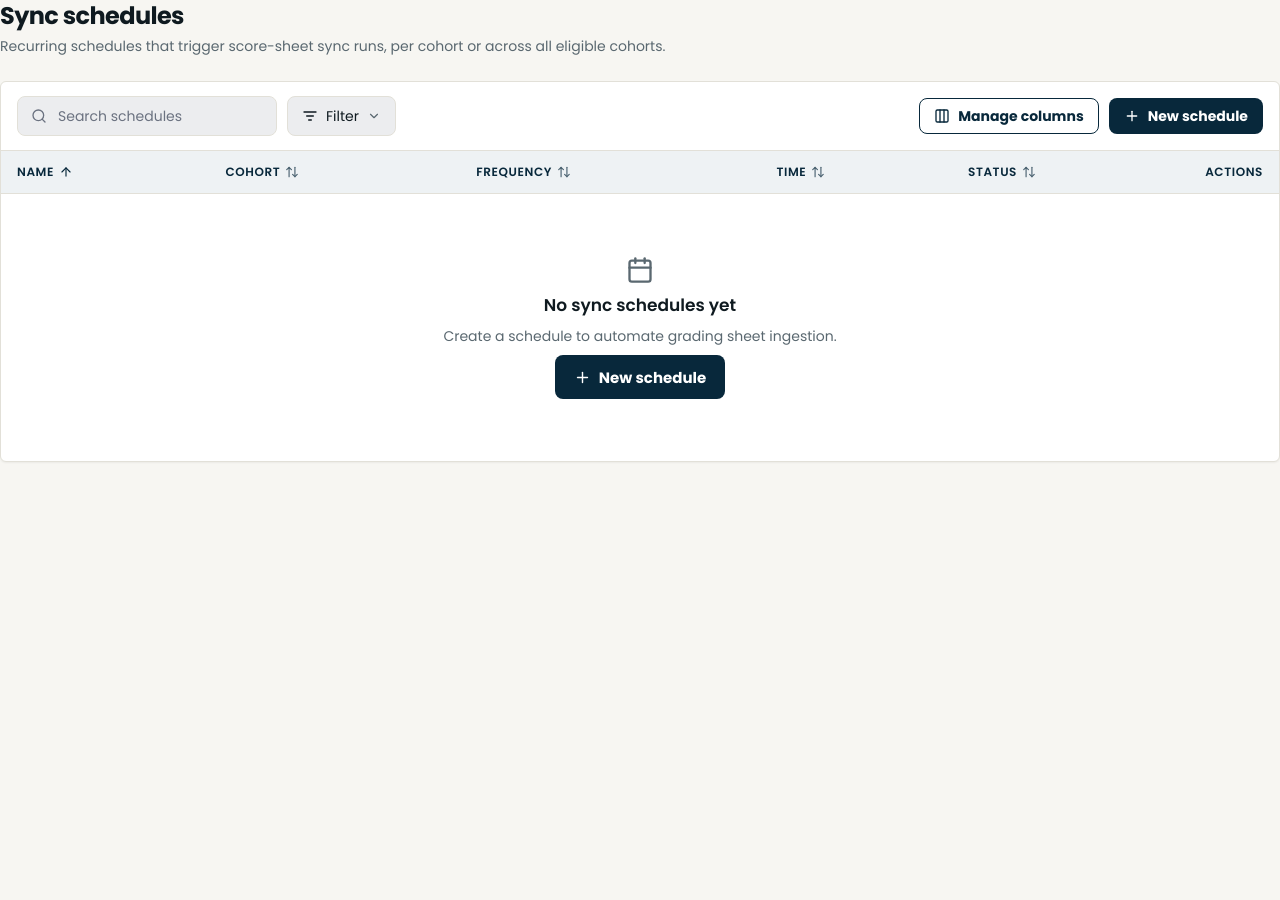
Scenario: SyncSchedulesView › keeps the day-of-week field in the DOM but disables it when frequency is DAILY
Step 1. Click the 1st button "New schedule" → (1186, 116), box [1109,98,1263,134]
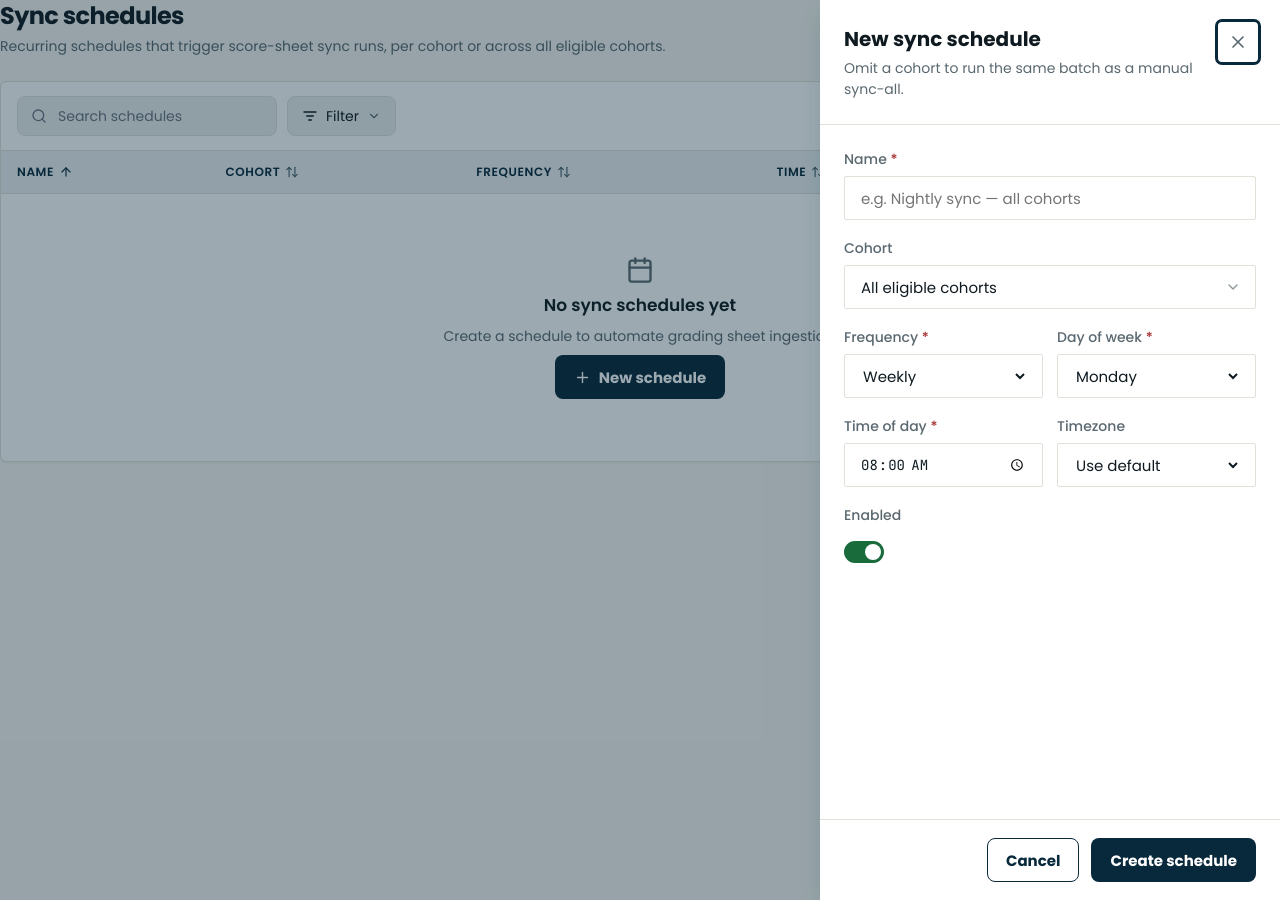
expect the text "Day of week" is shown: met, box [1057,327,1146,347]
expect the dropdown labelled "Day of week *" is enabled: met, box [1072,364,1241,388]
Step 2. Select "Daily" in the dropdown labelled "Frequency *" → (944, 376), box [859,364,1028,388]
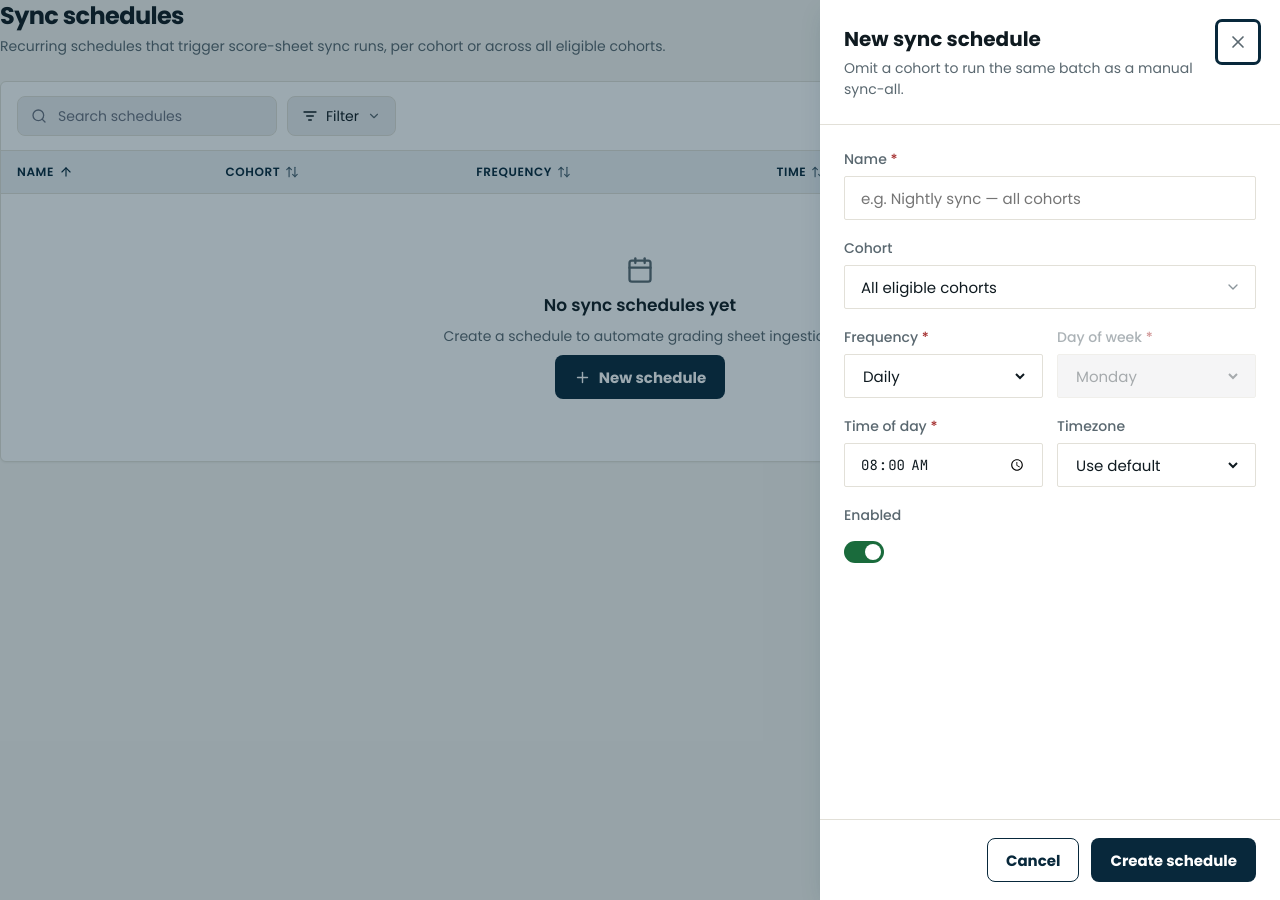
expect the text "Day of week" is shown: met, box [1057,327,1146,347]
expect the dropdown labelled "Day of week *" is disabled: met, box [1072,364,1241,388]
